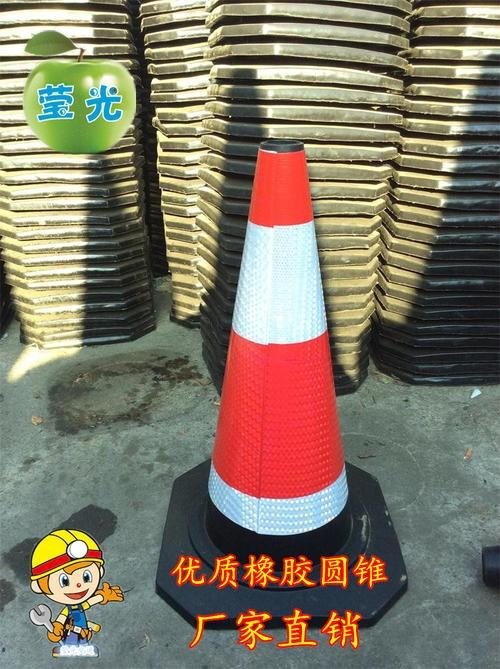cone_barrel: (189, 146, 366, 589)
